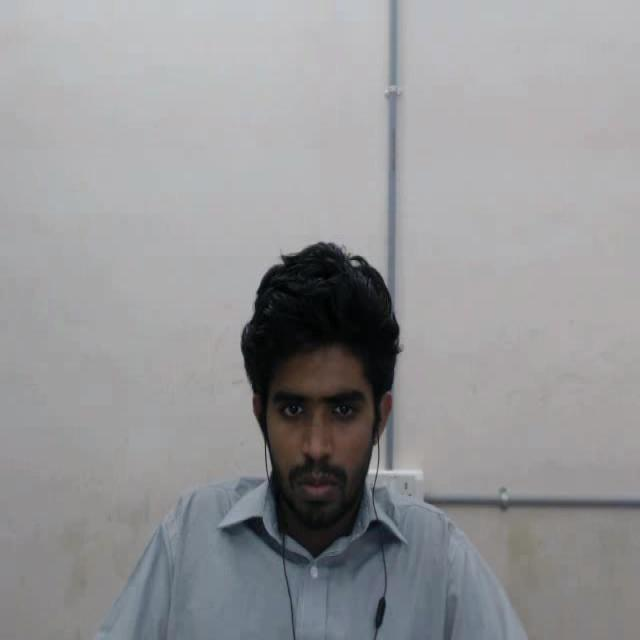Engaged: (246, 201, 410, 632)
